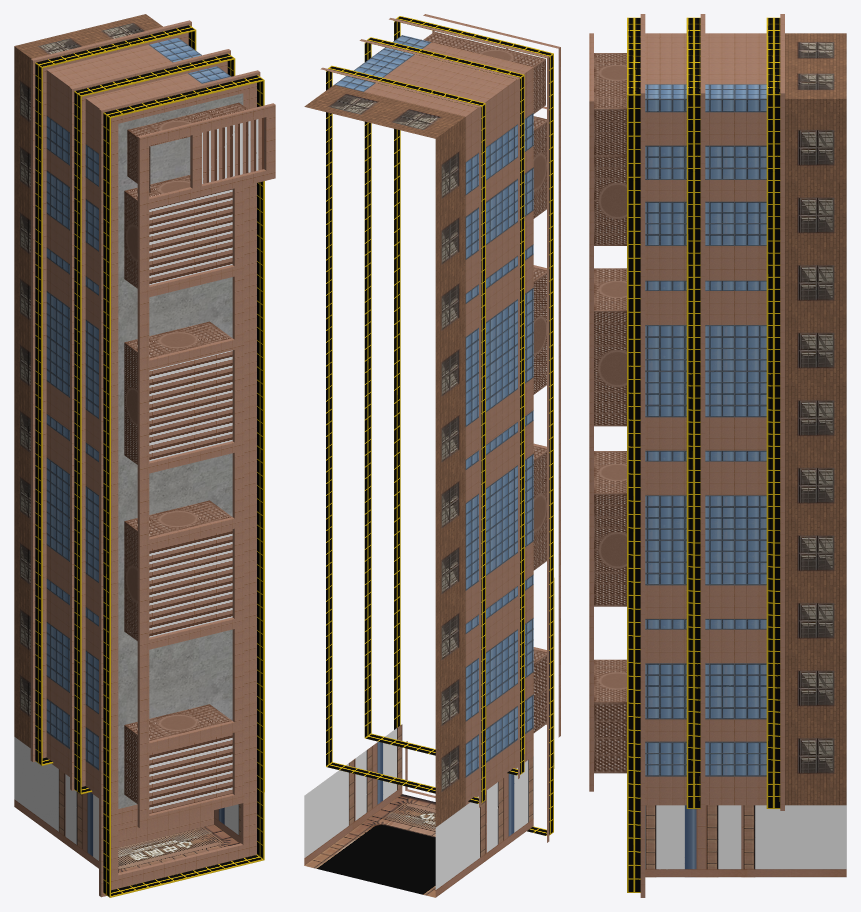
File: sgy_xw_01.gltf
3 renders of one model, left to right at view 1: azimuth 30°, elevation 25°; view 2: azimuth 150°, elevation 25°; view 3: azimuth 270°, elevation 25°, orthographic. The views are drawn at different scales.
Parts seen in each view (by area): view 1: Box028; view 2: Box028; view 3: Box028.
Boxes of the visible parts, x1,y1,x2,y2 form: Box028: (14, 14, 275, 897); Box028: (304, 14, 560, 897); Box028: (589, 14, 846, 897).
Bounding box in the file's own units: 25.17 × 119 × 34.47.
Materials: 11 (11 with a texture image).
